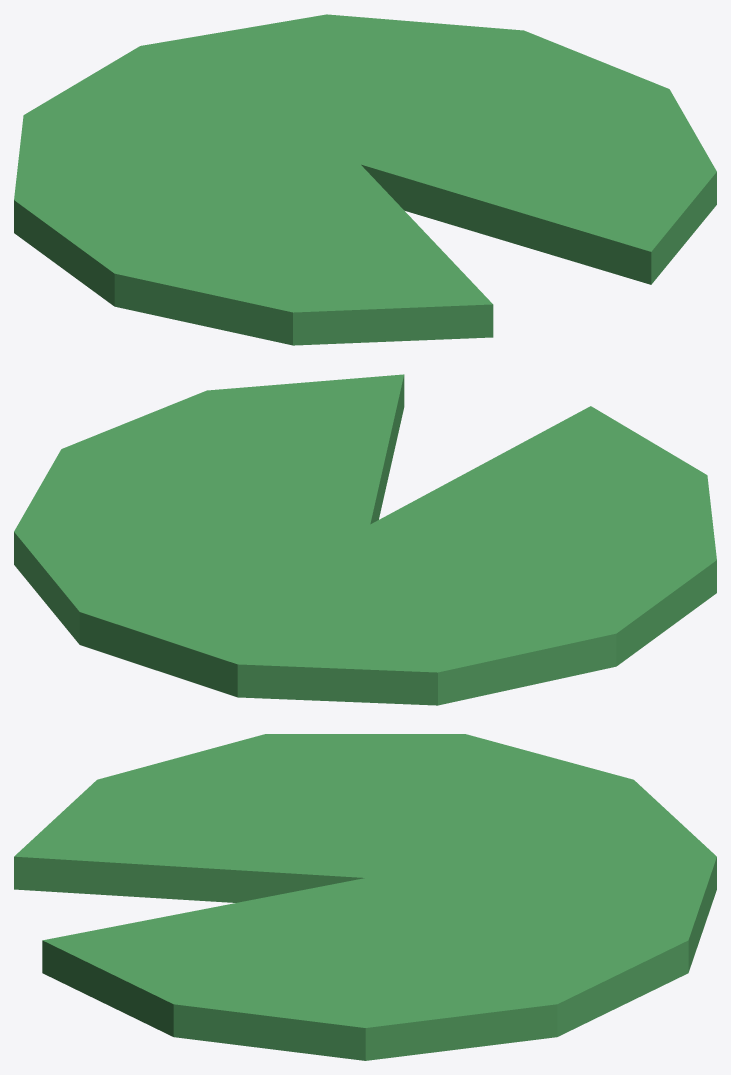
The model's file is LillyPad1.fbx.
3 renders of one model, top to bottom at view 1: azimuth 30°, elevation 25°; view 2: azimuth 150°, elevation 25°; view 3: azimuth 270°, elevation 25°, orthographic.
Parts seen in each view (by area): view 1: pCylinder8; view 2: pCylinder8; view 3: pCylinder8.
Boxes of the visible parts, bbox=[...] form: pCylinder8: bbox=[14, 14, 716, 345]; pCylinder8: bbox=[14, 374, 716, 705]; pCylinder8: bbox=[14, 734, 716, 1060].
Bounding box in the file's own units: 0.5717 × 0.0298 × 0.5775.
